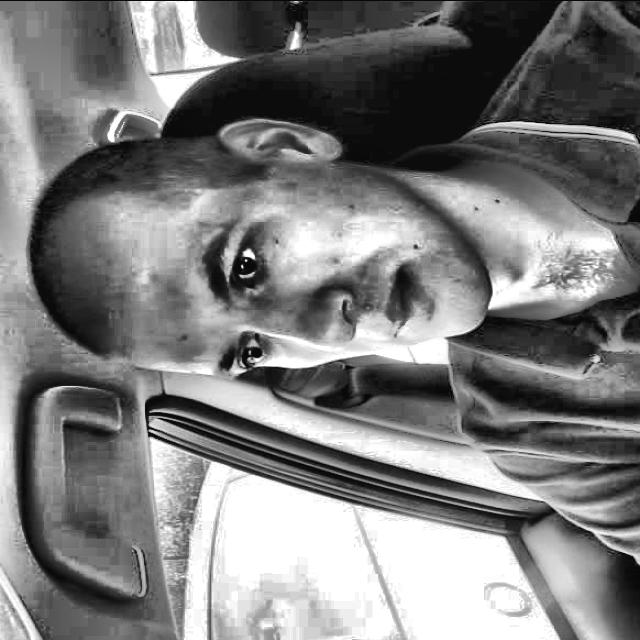closed_mouth: (370, 252, 456, 355)
open_eyes: (216, 231, 276, 303), (226, 319, 282, 384)
